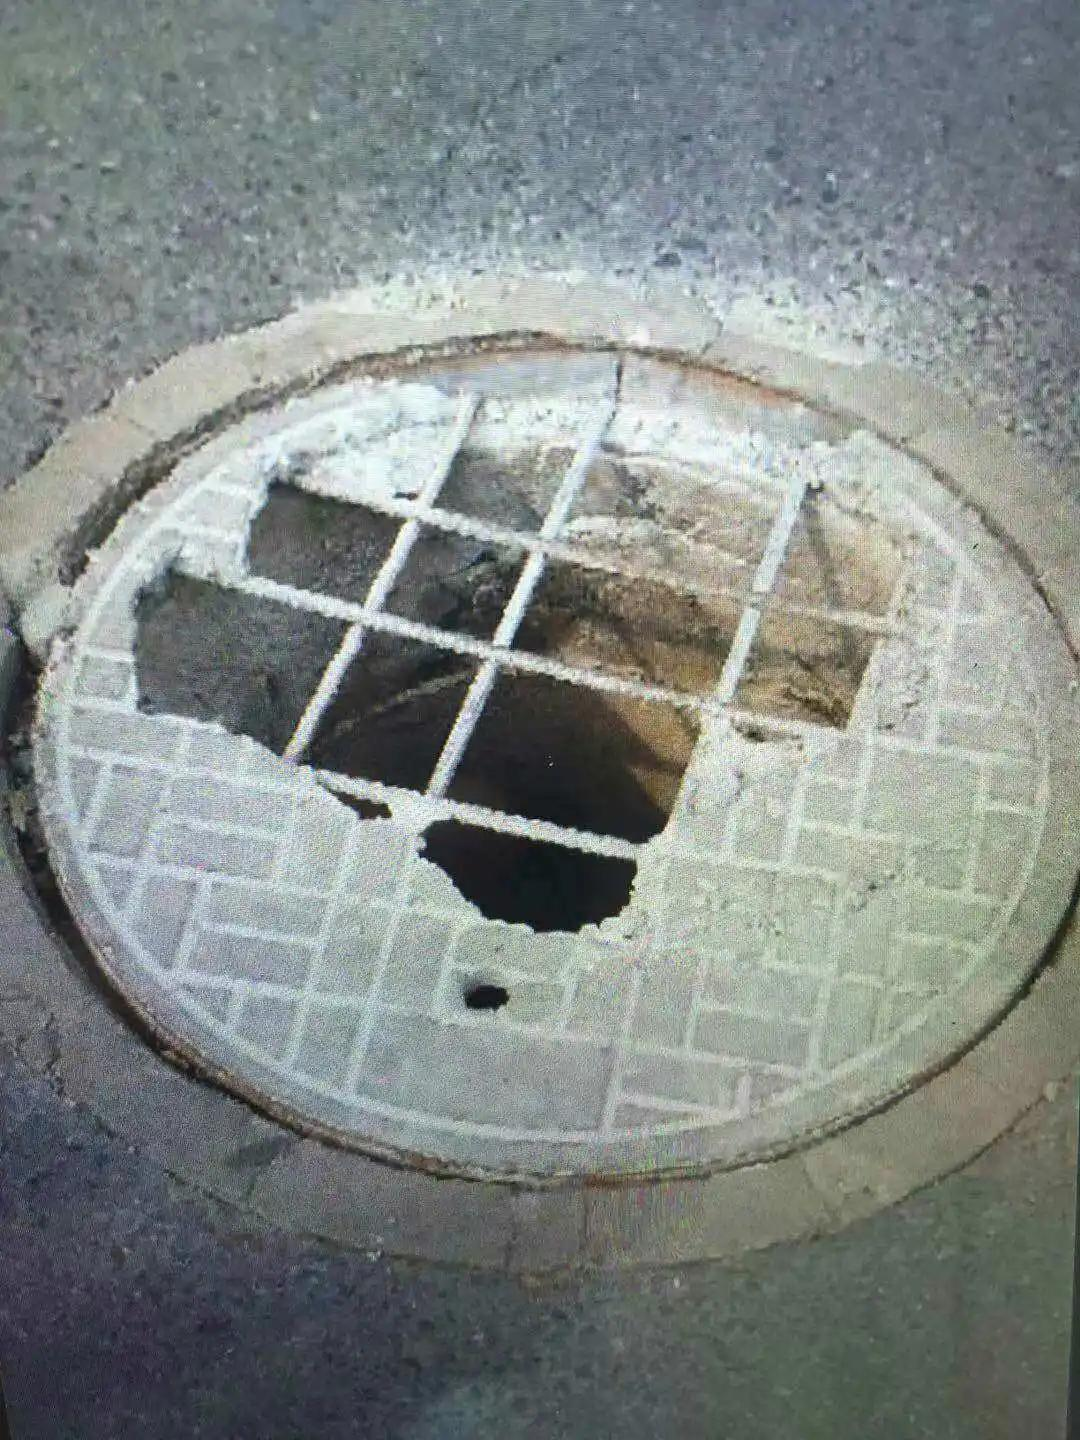wellcover: (8, 315, 1080, 1181)
